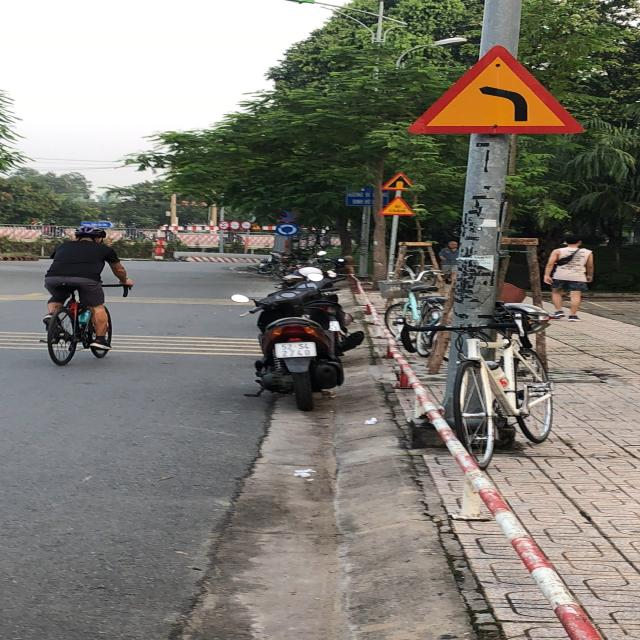Bien bao cho ngoat nguy hiem: (398, 39, 596, 140)
Bien bao di cham: (375, 194, 417, 218)
Bien bao noi giao nhau chay theo vong xuyen: (274, 221, 302, 237)
